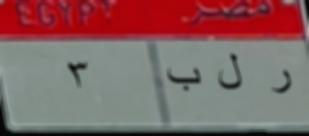3: (62, 58, 101, 92)
baa: (166, 60, 201, 96)
laam: (213, 45, 247, 98)
raa: (268, 63, 296, 101)
